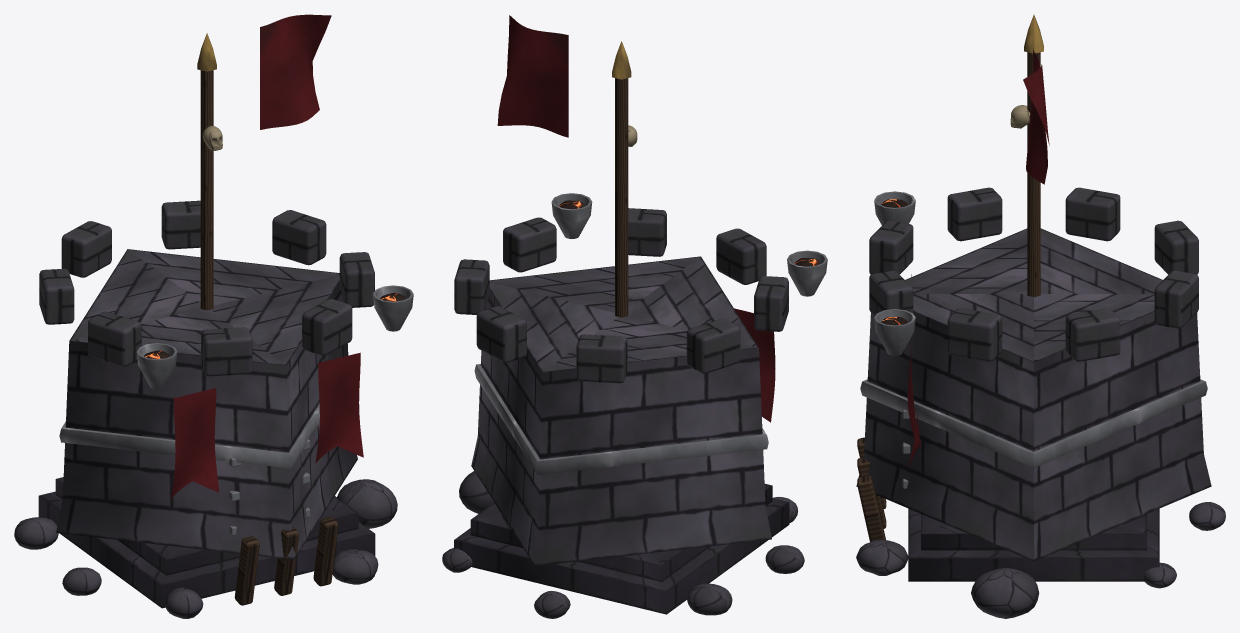
The model's file is barracks.glb.
3 views of the same model, side by side, from view 1: azimuth 30°, elevation 25°; view 2: azimuth 150°, elevation 25°; view 3: azimuth 270°, elevation 25° (orthographic). The views are drawn at different scales.
Visible parts, largest first — view 1: Base, Flag, Turret; view 2: Base, Flag, Turret; view 3: Base, Turret, Flag.
Part boxes in pixels (box(x1,y1,x2,y2)): Base: box(14, 200, 413, 618); Flag: box(260, 14, 331, 129); Turret: box(197, 33, 222, 310); Base: box(442, 193, 827, 618); Flag: box(497, 15, 568, 137); Turret: box(612, 41, 637, 317); Base: box(856, 187, 1225, 618); Turret: box(1010, 14, 1043, 296); Flag: box(1023, 48, 1049, 184).
Size of the model in its own units: 1.02 by 1.51 by 0.9579.
10 materials, 10 textured.
